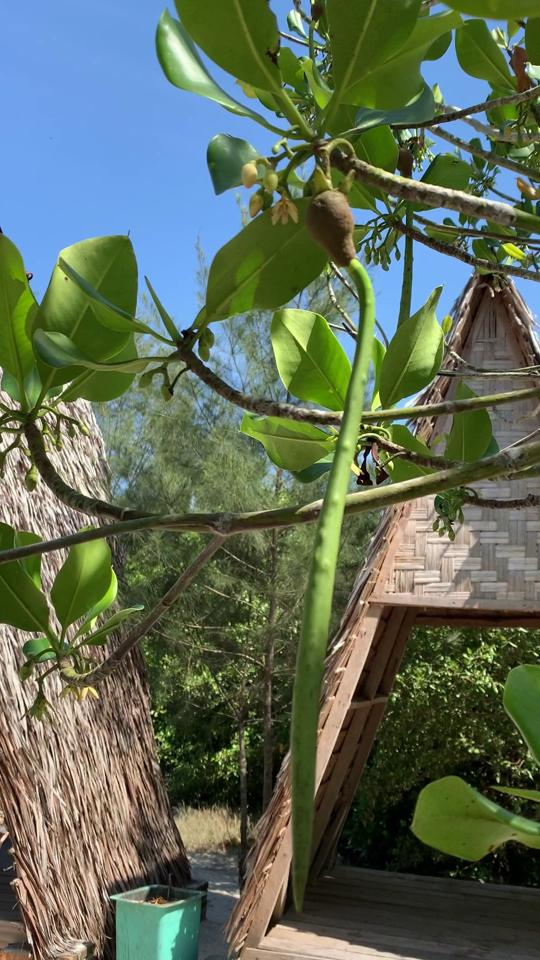setengah matang: (259, 162, 382, 925)
